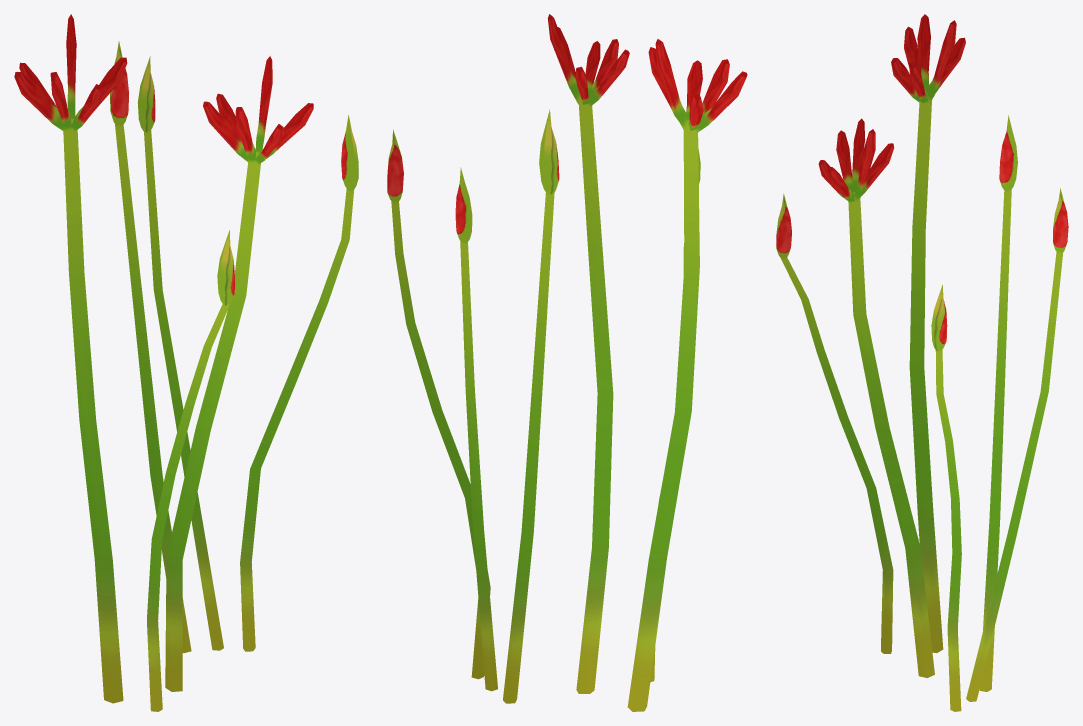
Rendered from m_lycoris07.fbx.
3 views of the same model, side by side, from view 1: azimuth 30°, elevation 25°; view 2: azimuth 150°, elevation 25°; view 3: azimuth 270°, elevation 25° (orthographic). The views are drawn at different scales.
Parts seen in each view (by area): view 1: mesh_lycoris07_LOD0; view 2: mesh_lycoris07_LOD0; view 3: mesh_lycoris07_LOD0.
Part boxes in pixels (bbox=[...]): mesh_lycoris07_LOD0: bbox=[14, 14, 358, 711]; mesh_lycoris07_LOD0: bbox=[387, 14, 747, 711]; mesh_lycoris07_LOD0: bbox=[776, 14, 1068, 711].
Size of what is drawn, in the model's own units: 0.1526 by 0.2851 by 0.1226.
